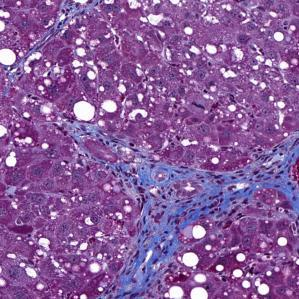fibrosis: (139, 155, 226, 226)
